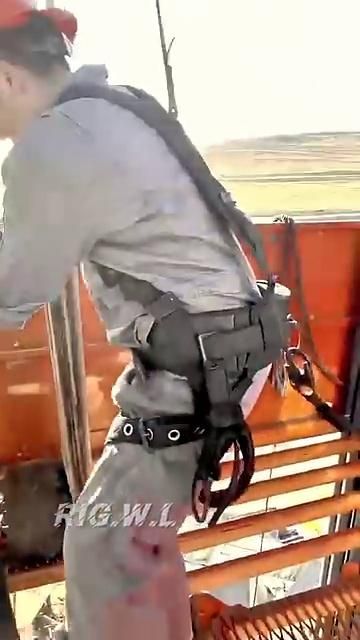helmet: (0, 1, 116, 75)
worker: (5, 0, 220, 640)
